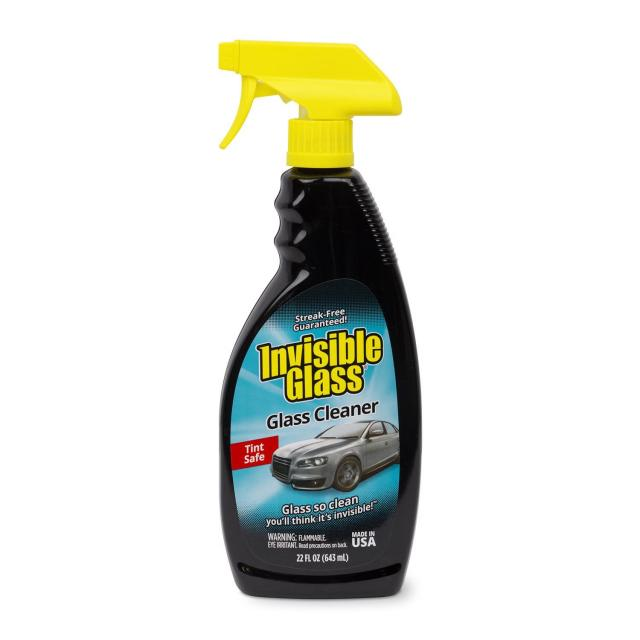winwinshield_washer: (209, 37, 429, 603)
